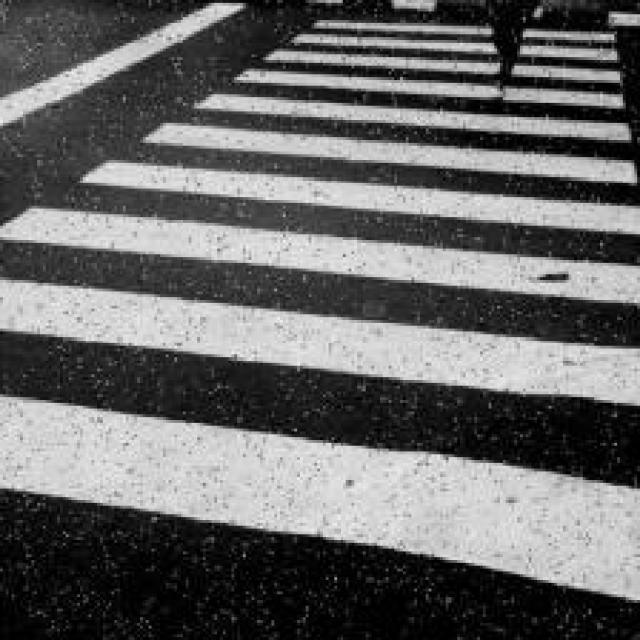crosswalk: (0, 14, 640, 610)
